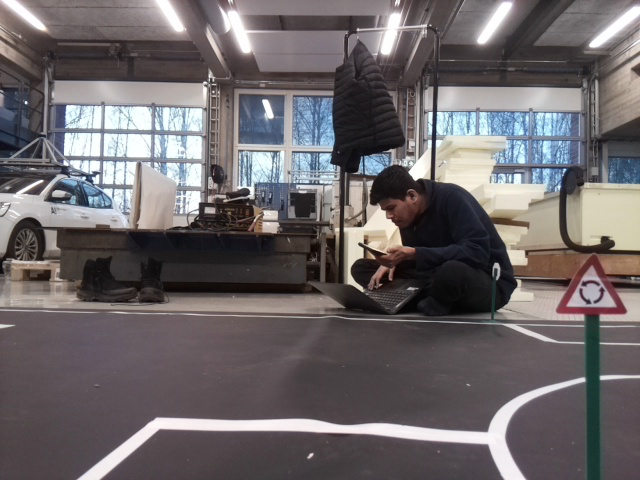Roundabout: (554, 254, 629, 313)
